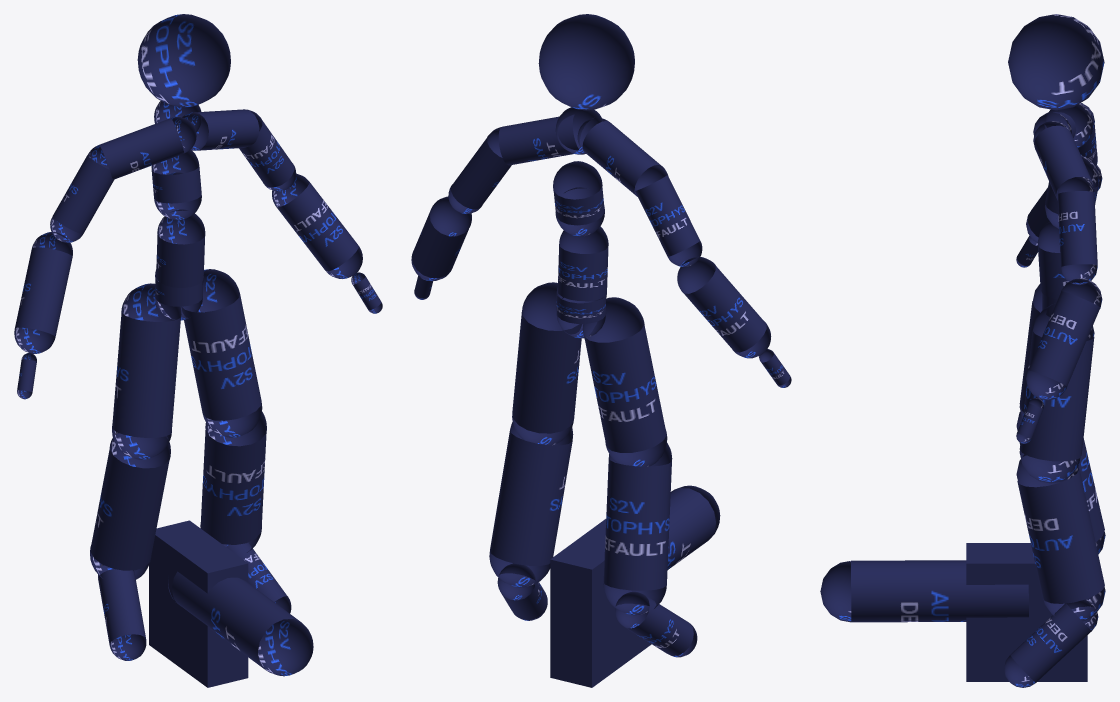
Rendered from abrams_physics.gltf.
3 views of the same model, side by side, from view 1: azimuth 30°, elevation 25°; view 2: azimuth 150°, elevation 25°; view 3: azimuth 270°, elevation 25° (orthographic). The views are drawn at different scales.
Parts seen in each view (by area): view 1: physics_group; view 2: physics_group; view 3: physics_group.
Boxes of the visible parts, box(x1,y1,x2,y2) form: physics_group: box(14, 14, 382, 687); physics_group: box(411, 14, 791, 687); physics_group: box(820, 14, 1105, 687).
Bounding box in the file's own units: 1.91 × 3.18 × 1.26.
Materials: 1 (1 with a texture image).
